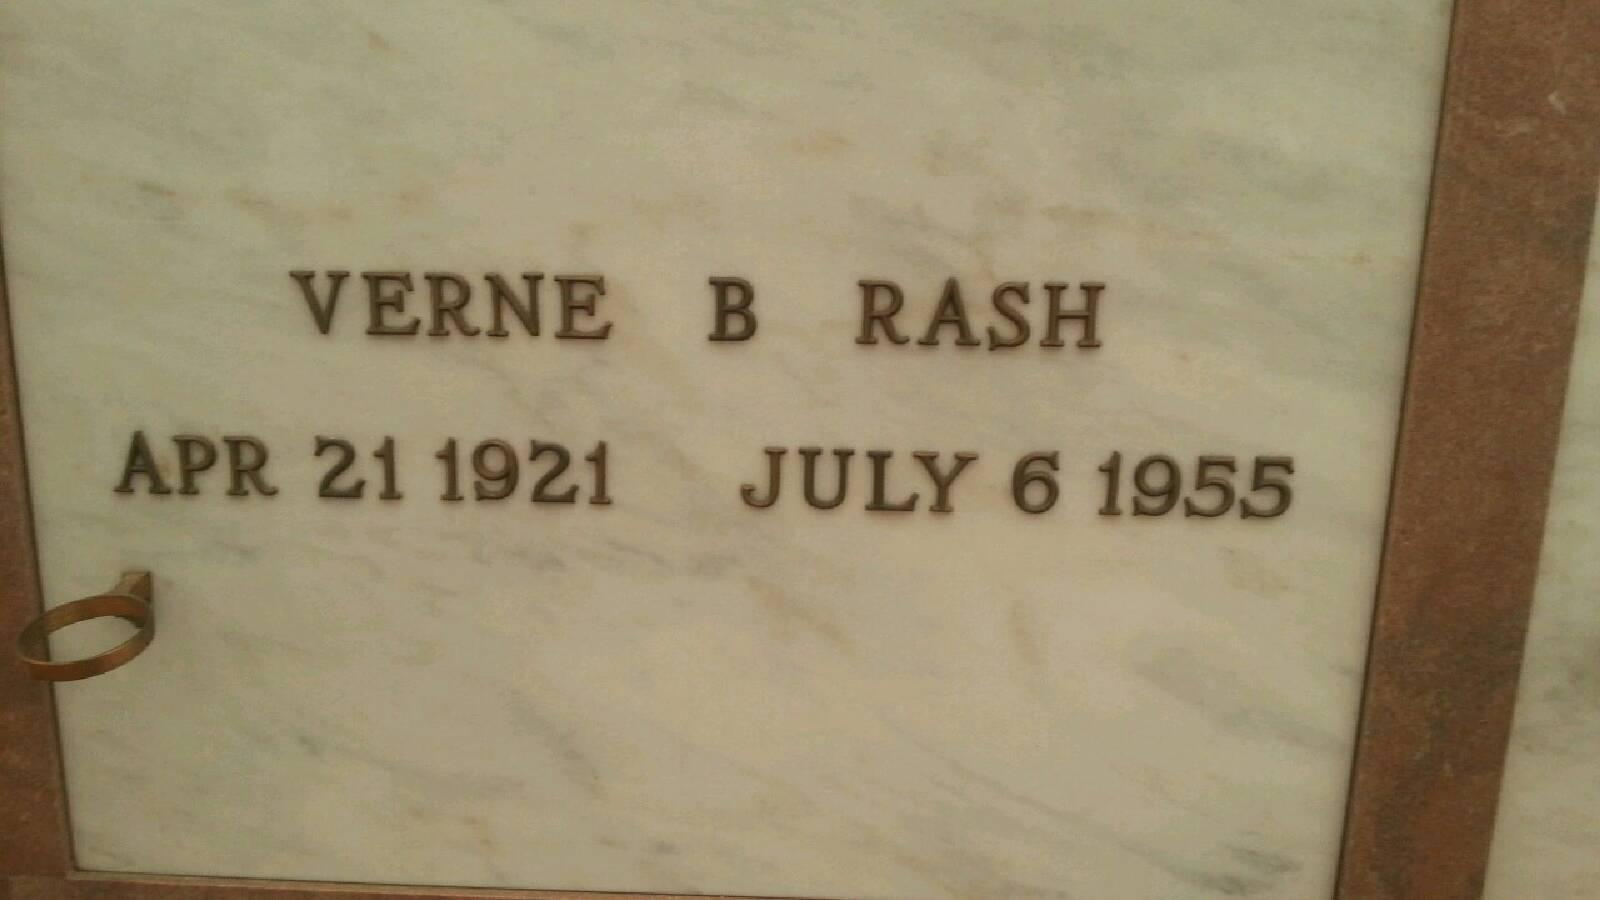plaque: (0, 16, 1447, 751)
